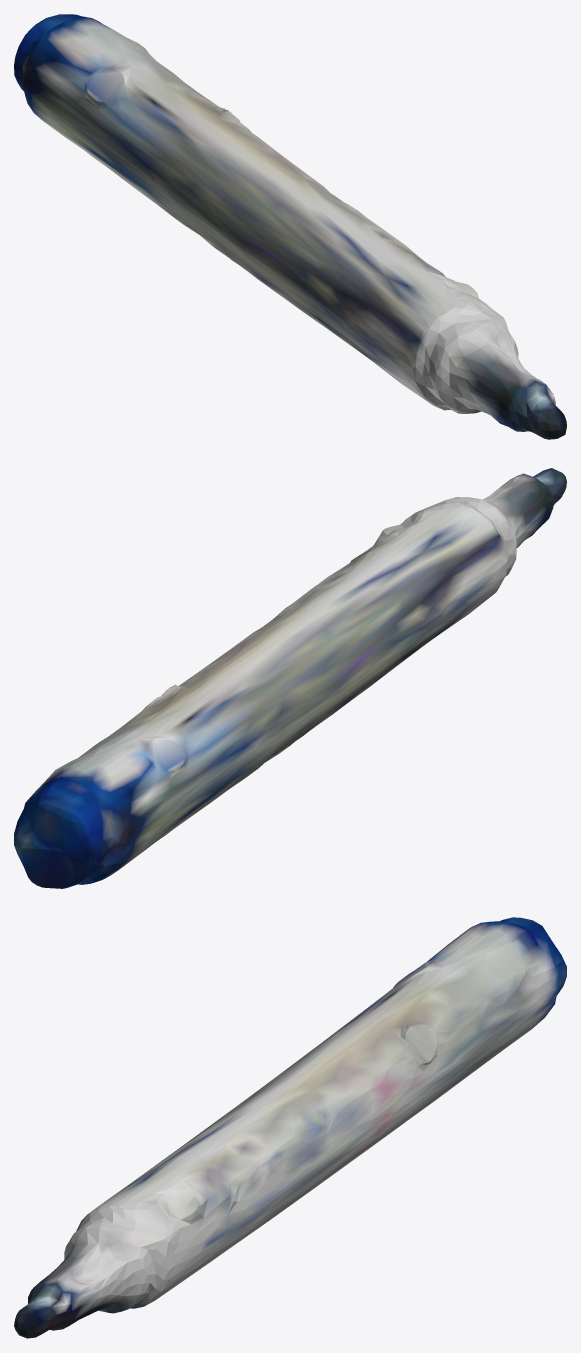
File: scan.obj
The picture shows the model from 3 angles, top to bottom: view 1: azimuth 30°, elevation 25°; view 2: azimuth 150°, elevation 25°; view 3: azimuth 330°, elevation 25°; orthographic projection.
Visible parts, largest first — view 1: scan.ply; view 2: scan.ply; view 3: scan.ply.
Boxes of the visible parts, bbox=[...] form: scan.ply: bbox=[14, 14, 566, 439]; scan.ply: bbox=[14, 468, 566, 888]; scan.ply: bbox=[14, 917, 566, 1338].
Size of the model in its own units: 0.0163 by 0.0169 by 0.1405.
